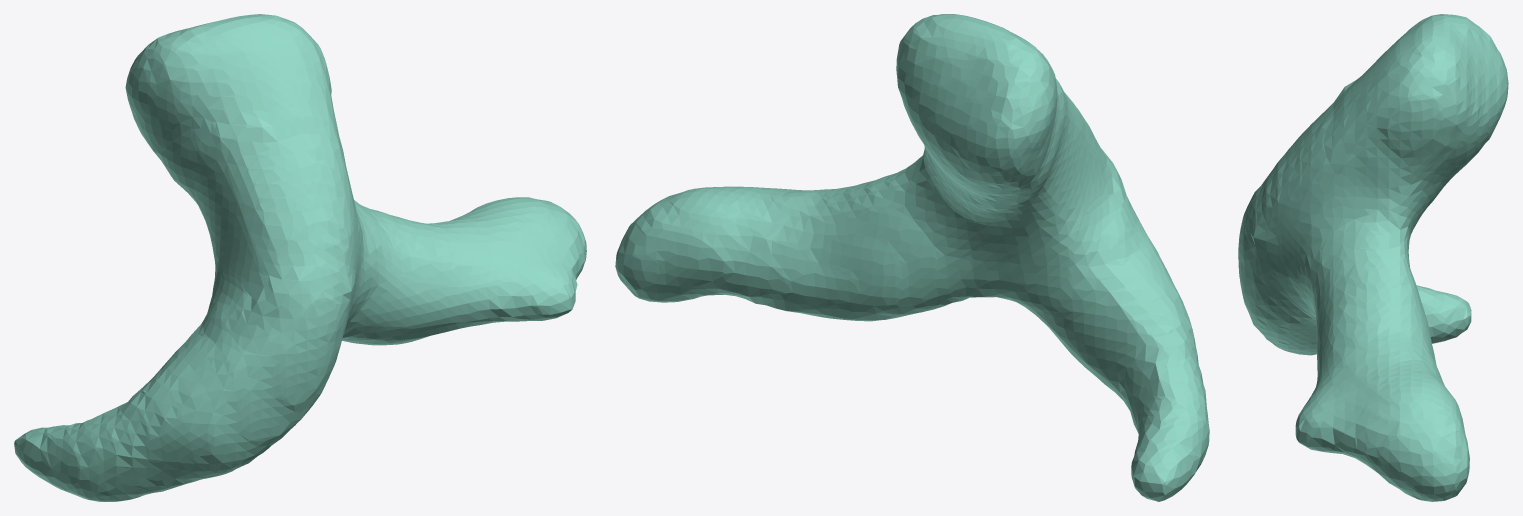
File: ours.glb
The picture shows the model from 3 angles, left to right: view 1: azimuth 30°, elevation 25°; view 2: azimuth 150°, elevation 25°; view 3: azimuth 270°, elevation 25°; orthographic projection. The views are drawn at different scales.
Parts seen in each view (by area): view 1: world; view 2: world; view 3: world.
Boxes of the visible parts, <box> form: world: <box>14,14,586,501</box>; world: <box>615,14,1209,501</box>; world: <box>1238,14,1508,501</box>.
Bounding box in the file's own units: 0.8507 × 0.6173 × 0.3804.
